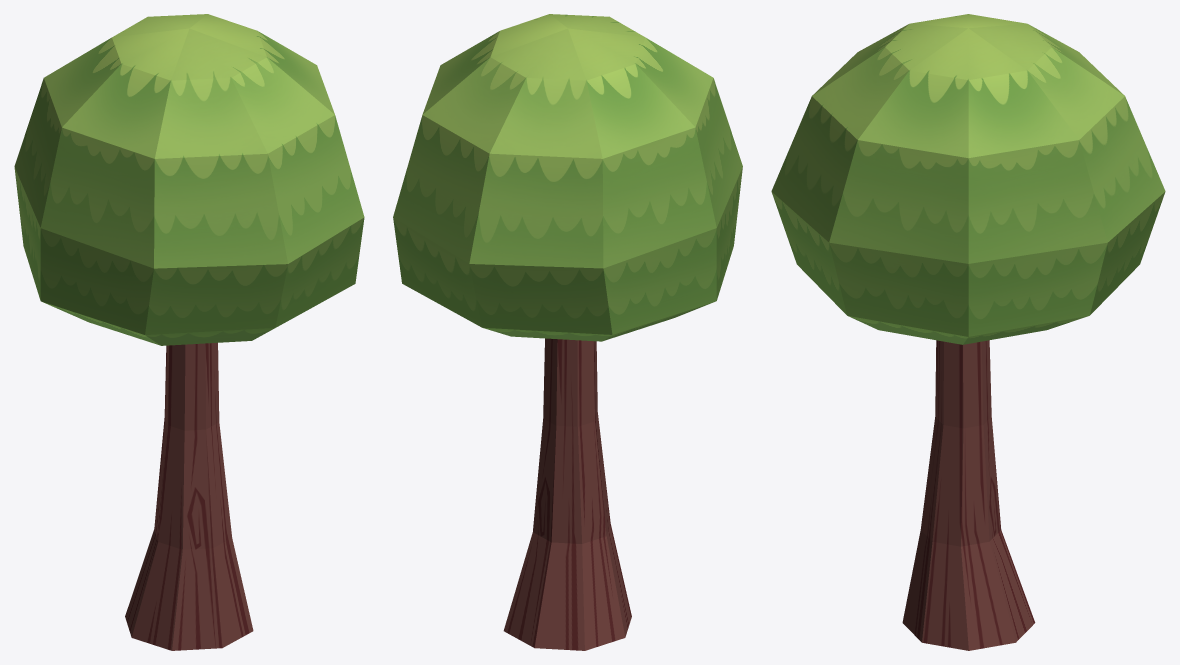
File: Tree2.fbx
3 renders of one model, left to right at view 1: azimuth 30°, elevation 25°; view 2: azimuth 150°, elevation 25°; view 3: azimuth 270°, elevation 25°, orthographic.
Parts seen in each view (by area): view 1: Tree2; view 2: Tree2; view 3: Tree2.
Part boxes in pixels (x1,y1,x2,y2): Tree2: [14, 14, 364, 650]; Tree2: [393, 14, 742, 650]; Tree2: [771, 14, 1165, 650].
Bounding box in the file's own units: 401 × 767 × 461.
